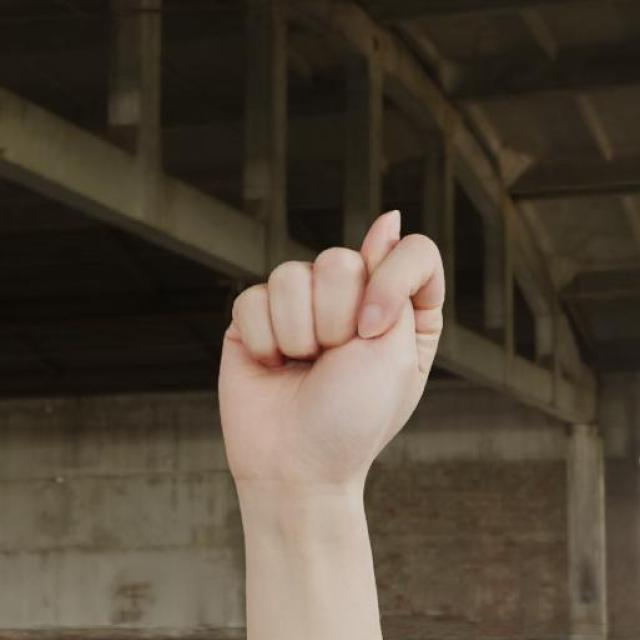T: (214, 208, 450, 483)
